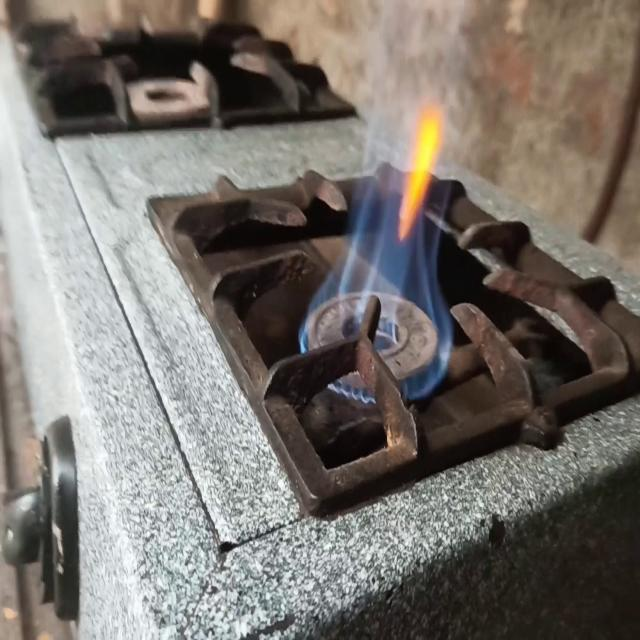Fire: (299, 130, 466, 408), (328, 370, 378, 409)
